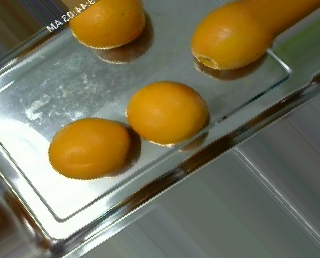Orange: (47, 116, 130, 179), (127, 80, 207, 144)
